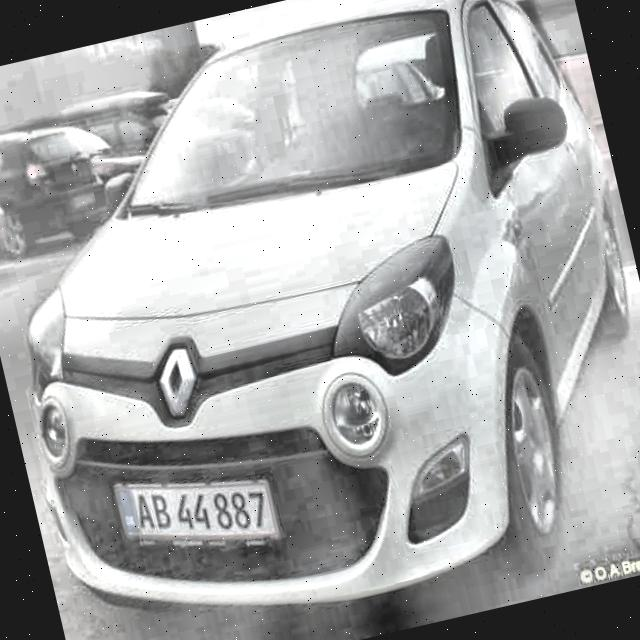license_plate: (117, 460, 278, 569)
